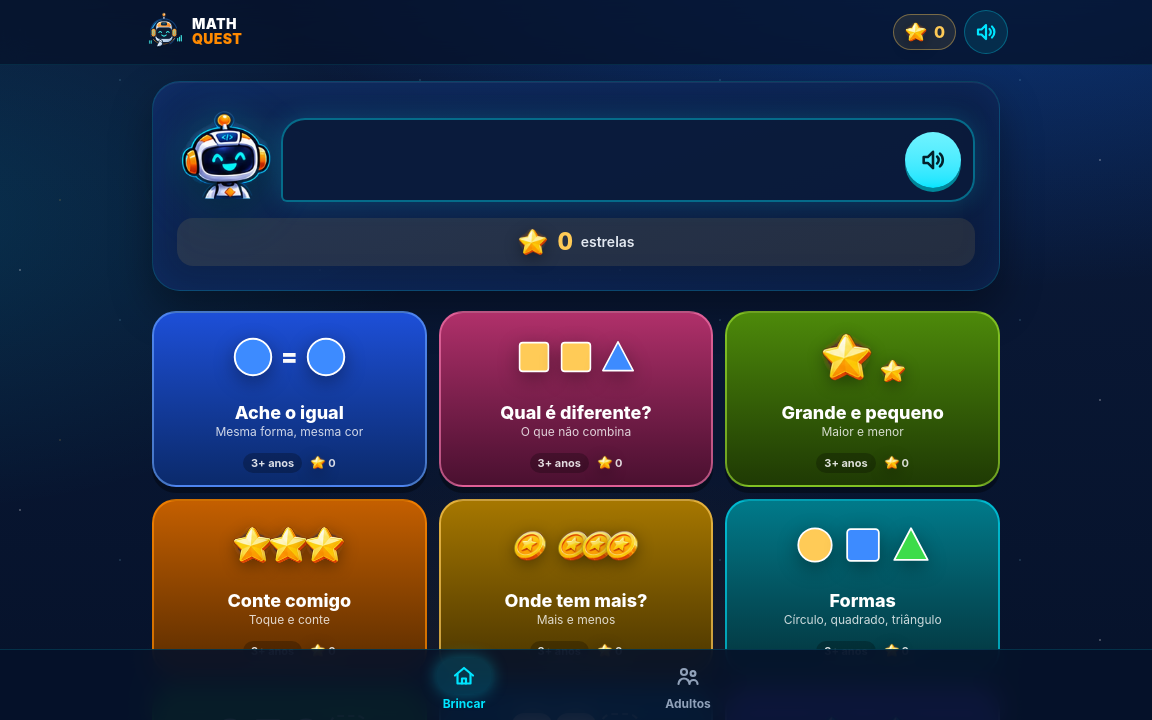
Test case: healthy pause (Padrão VSA de Bem-Estar) › 3–6: keeps the adults area behind the hold + 2-digit sum gate
The image size is (1152, 720).
Later steps or results of the test are not shown.
Click the button "Adultos" at (688, 685), box [576,650,800,719]
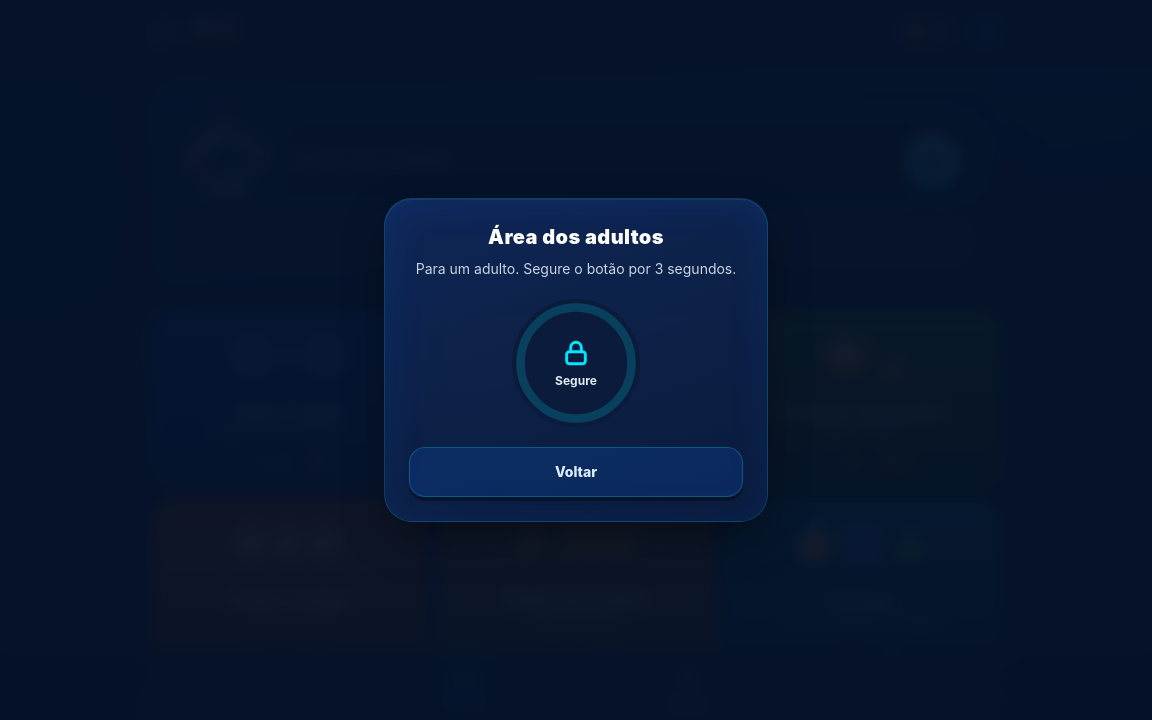
Now the dialog "Área dos adultos" is shown
Press the mouse on the button with aria-label "Segure por 3 segundos" at (576, 363), box [512,299,640,427]
Wait 3100 ms
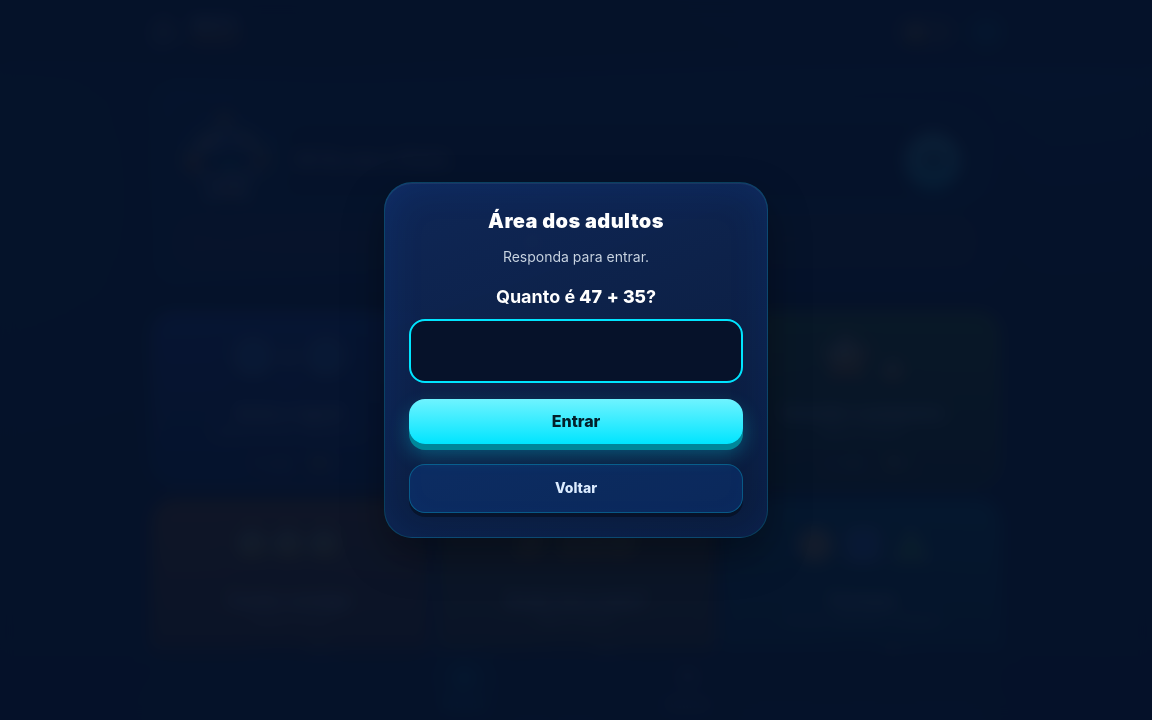
Type "1" into the field labelled "Quanto é 47 + 35?" at (576, 351), box [409,319,743,383]
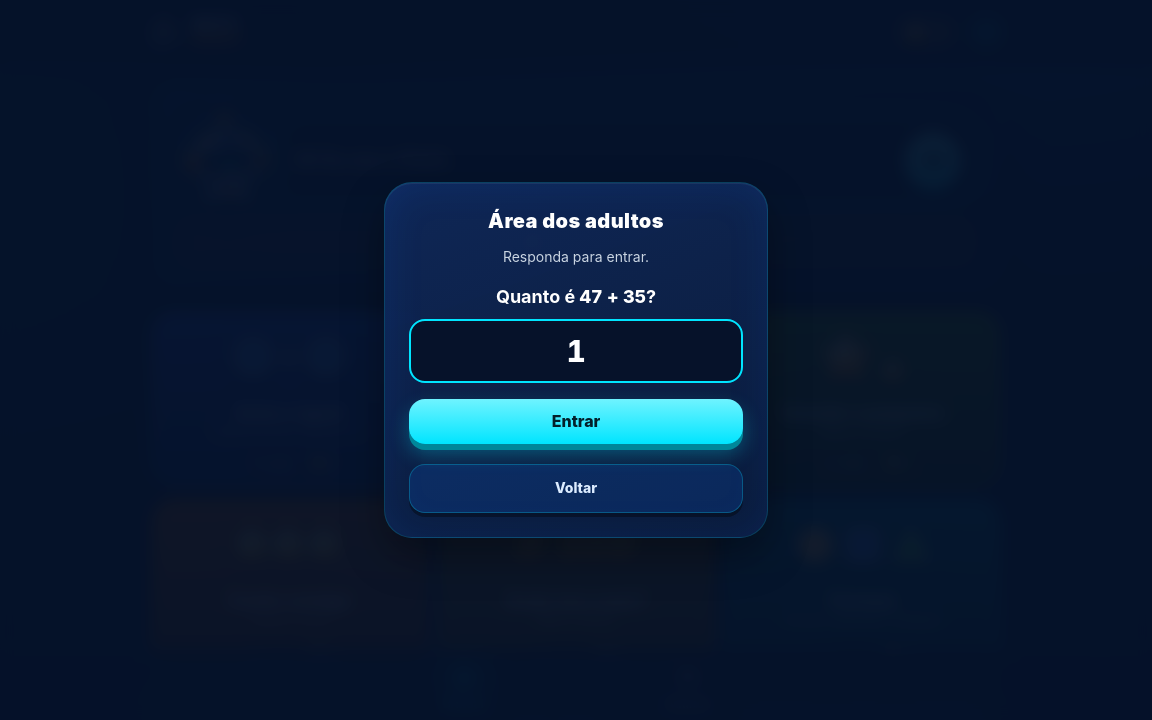
Click the button "Entrar" at (576, 421), box [409,399,743,444]
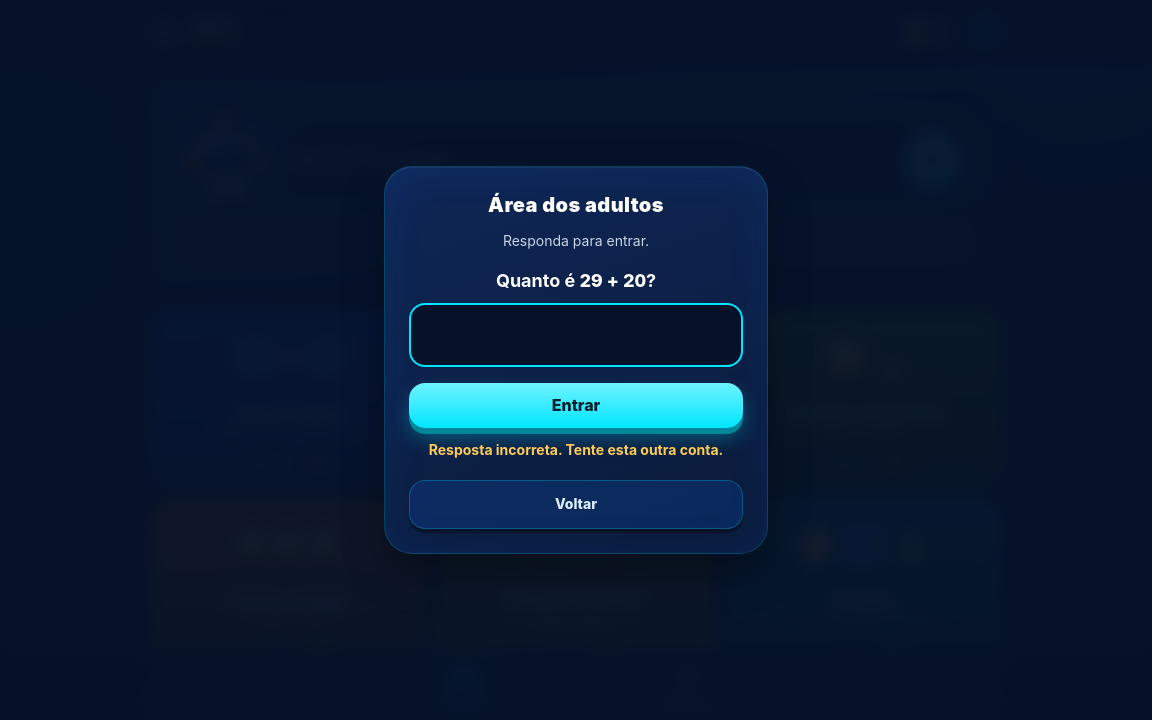
Now the message shows "Resposta incorreta", box [429,441,723,458]
Type "49" into the field labelled "Quanto é 29 + 20?" at (576, 335), box [409,303,743,367]
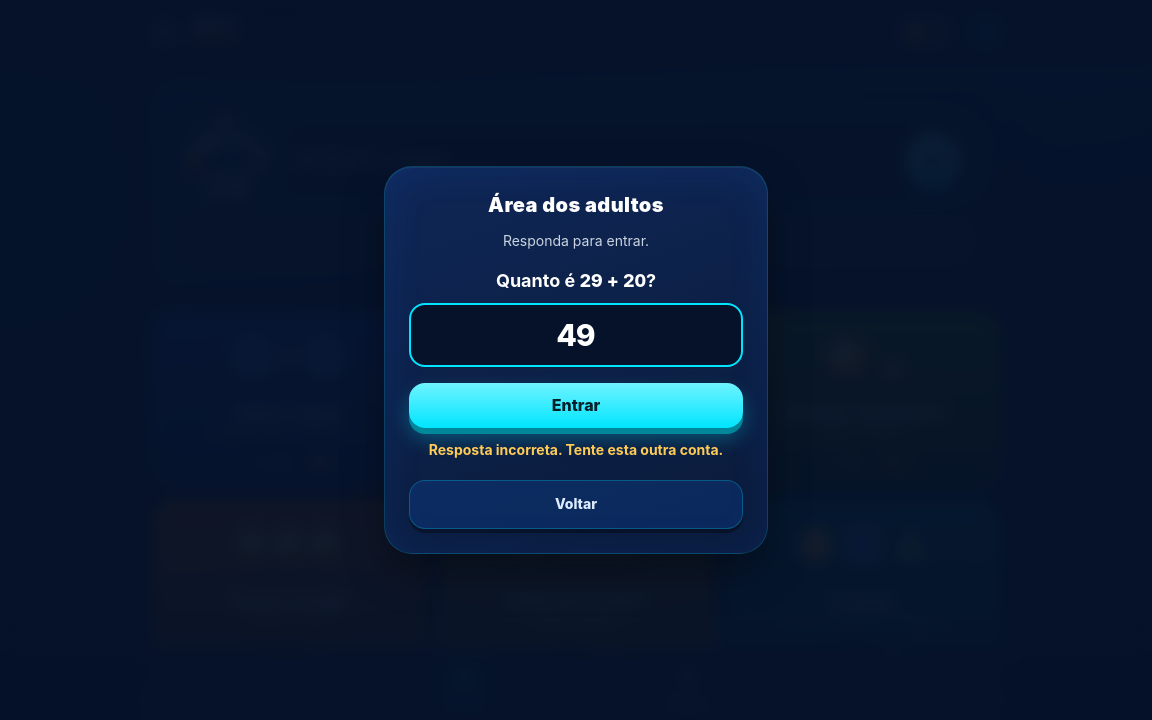
Click the button "Entrar" at (576, 405), box [409,383,743,428]
(page scrolled)
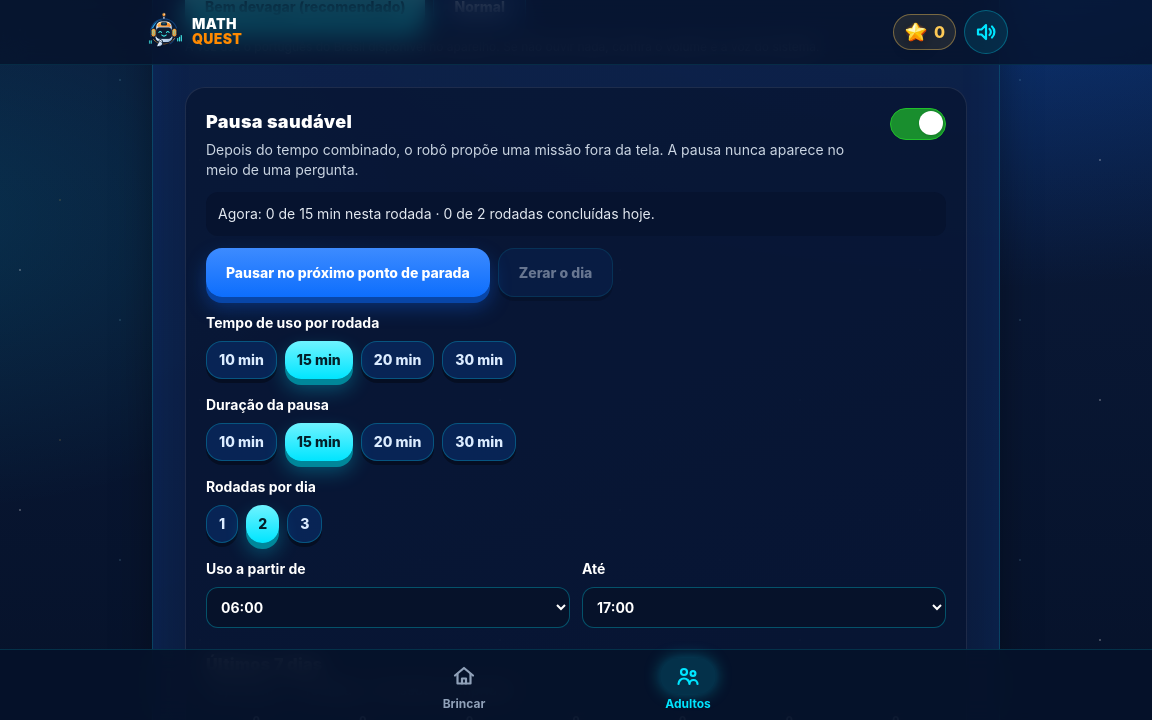
Now the heading "Pausa saudável" is shown, box [206,111,352,132]
Now the radio button labelled "15 min" below "Tempo de uso por rodada" is shown, box [285,341,353,379]
